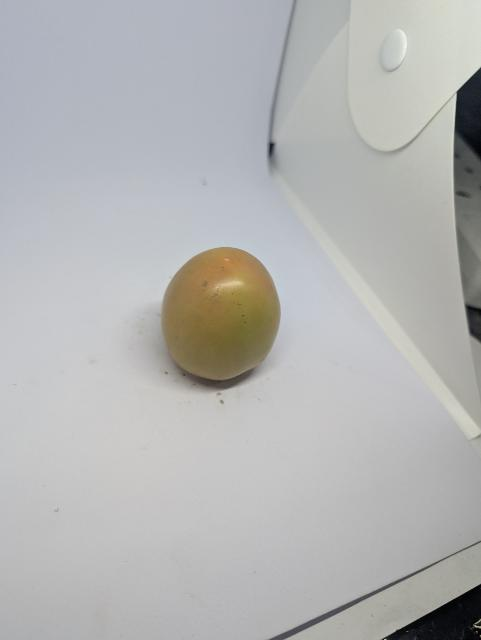breaker: (158, 237, 293, 386)
